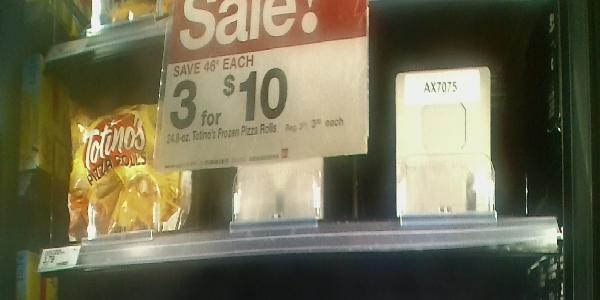icecream: (67, 95, 193, 240)
